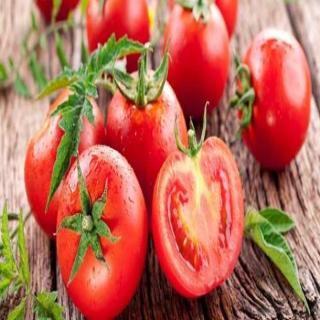Tomat: (152, 102, 246, 299), (55, 144, 149, 320)
